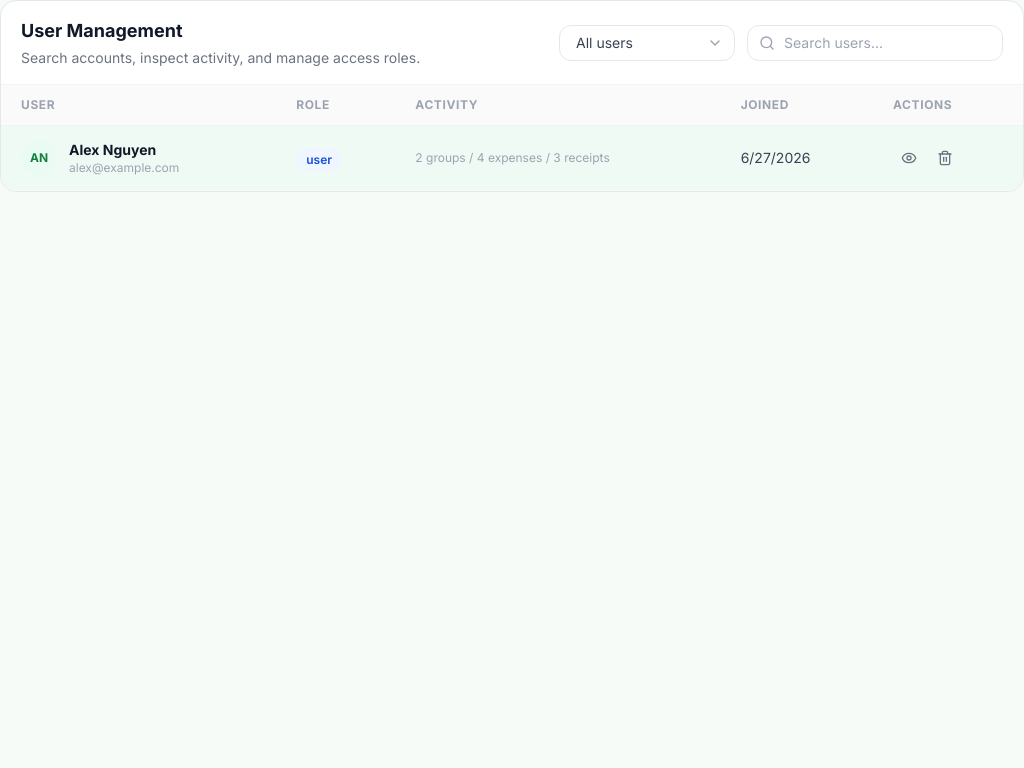
Test: AdminDashboardPage › loads admin users and shows the selected user detail
The width and height of the screenshot is (1024, 768).
Expected: the heading "User Management" is shown, x1=21 y1=20 x2=182 y2=41
Expected: the text "alex@example.com" is shown, x1=69 y1=160 x2=179 y2=176
Click the button titled "User Detail": (909, 158) x1=893 y1=142 x2=925 y2=174
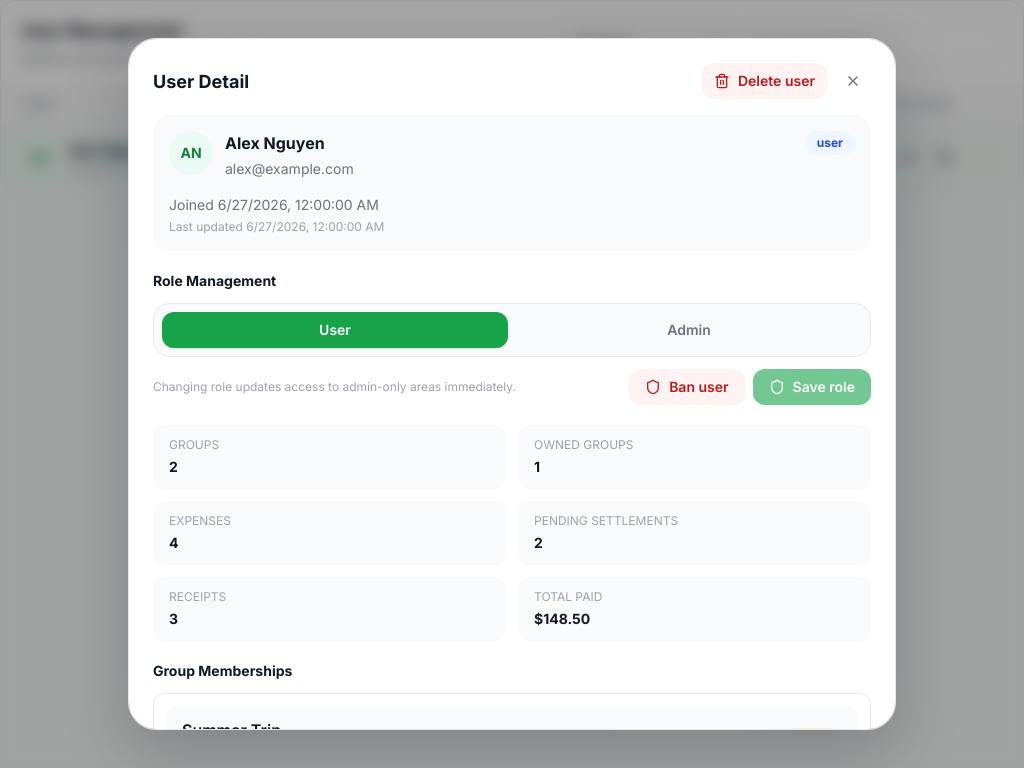
Result: the text "Role Management" is shown at x1=153 y1=272 x2=276 y2=289
Result: the text "Group Memberships" is shown at x1=153 y1=662 x2=292 y2=679
